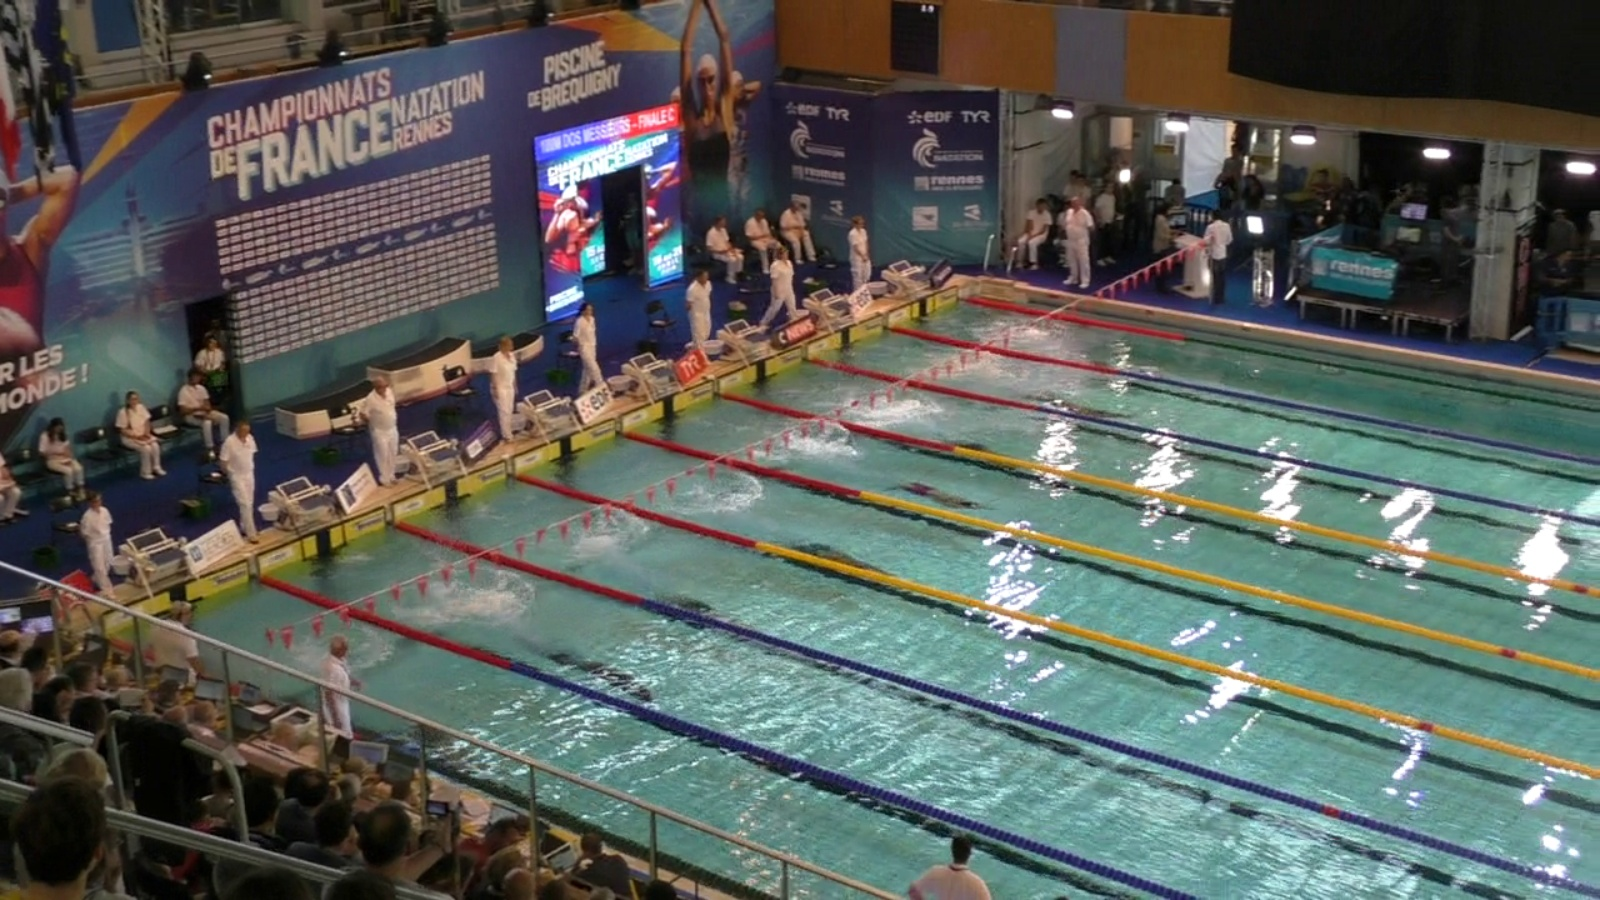swimmerwdd: (505, 641, 662, 703), (379, 707, 493, 787), (767, 535, 899, 595), (635, 584, 731, 640), (874, 473, 995, 516), (1014, 396, 1138, 424), (1046, 348, 1146, 384), (914, 433, 1003, 464)
